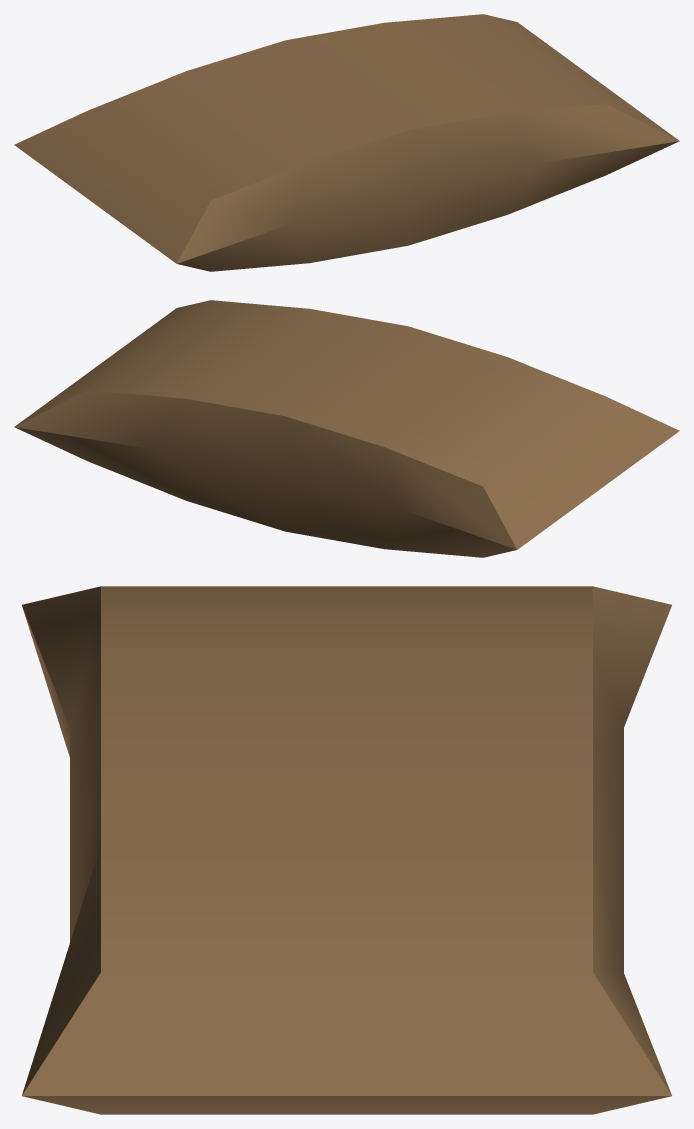
File: Sack.fbx
3 views of the same model, one above another, from view 1: azimuth 30°, elevation 25°; view 2: azimuth 150°, elevation 25°; view 3: azimuth 270°, elevation 25° (orthographic). The views are drawn at different scales.
Parts seen in each view (by area): view 1: Sack; view 2: Sack; view 3: Sack.
Part boxes in pixels (x1=…): Sack: x1=14, y1=14, x2=679, y2=271; Sack: x1=14, y1=300, x2=679, y2=557; Sack: x1=22, y1=586, x2=671, y2=1114.
Size of the model in its own units: 264 by 57.76 by 148.
